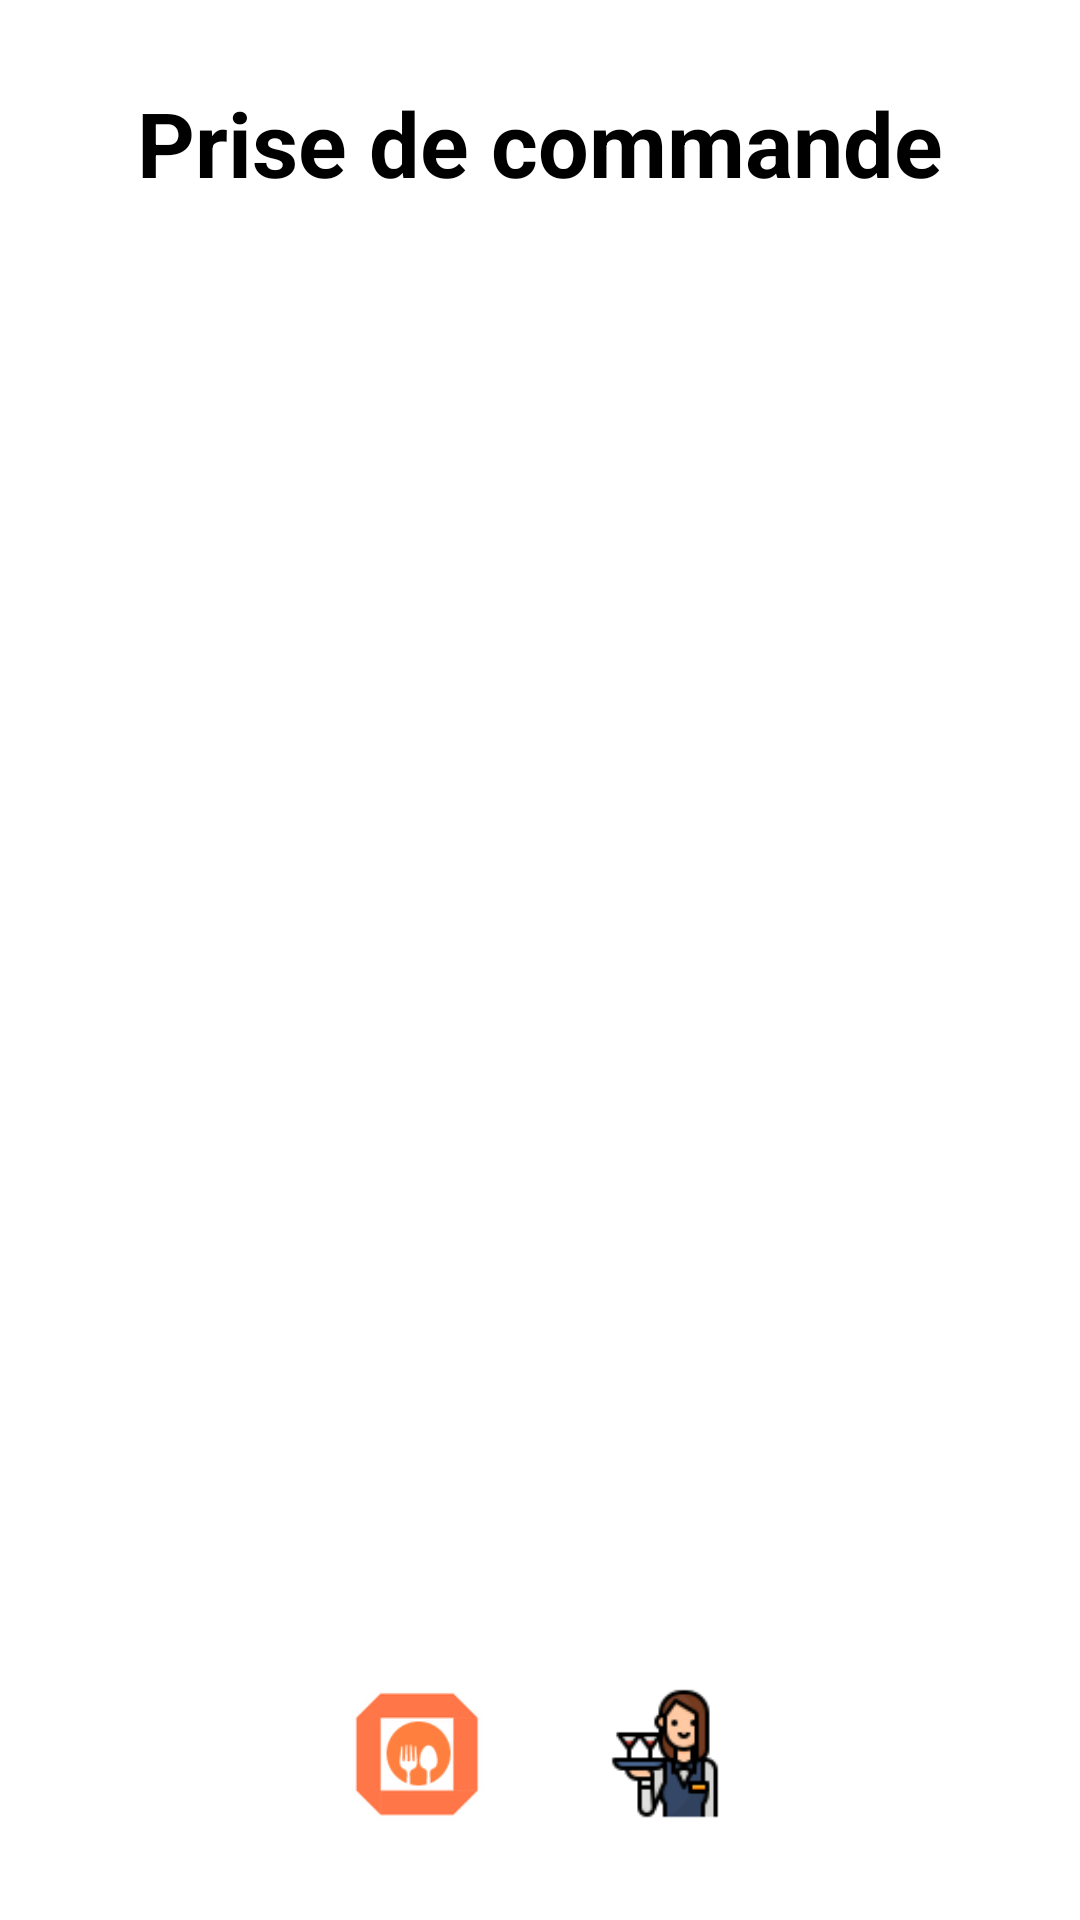

Icon bounding boxes for this 1080 x 1920 phone screenshot, format (x1, y1, x2, y2):
serveur: (611, 1689, 719, 1818)
